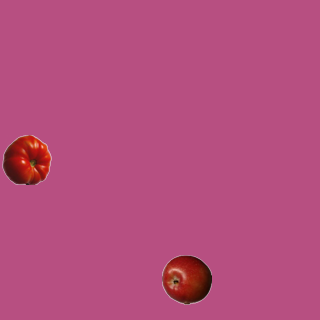Apple Braeburn: (161, 254, 211, 304)
Tomato 3: (1, 134, 51, 184)
